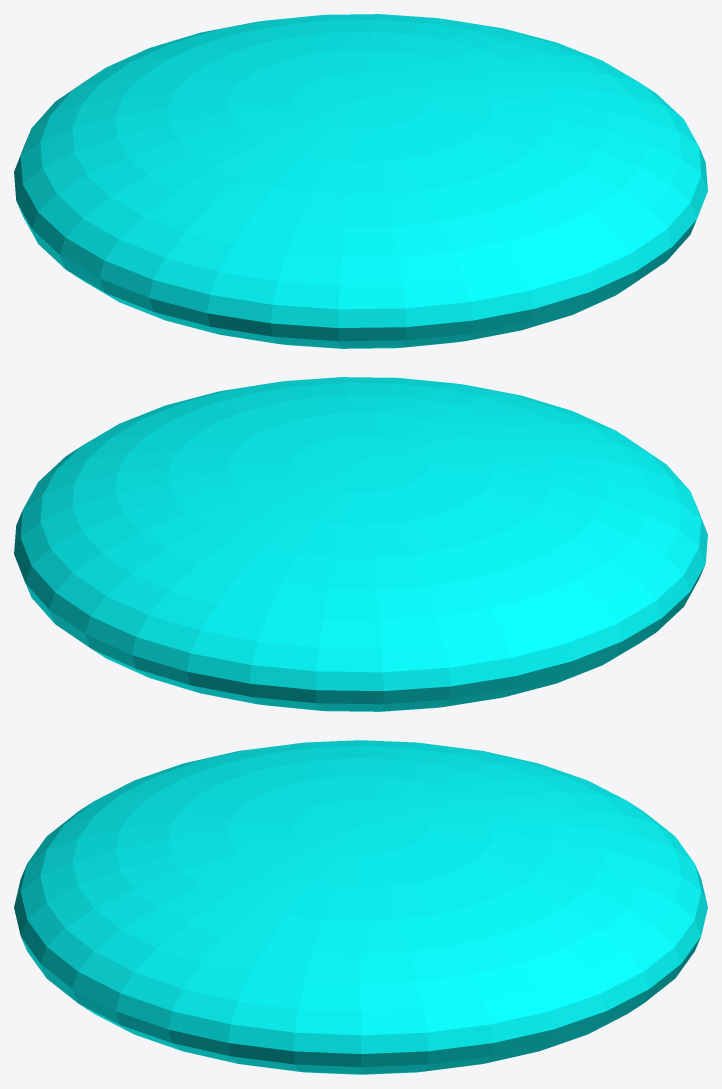
File: warpPoint.obj
3 renders of one model, top to bottom at view 1: azimuth 30°, elevation 25°; view 2: azimuth 150°, elevation 25°; view 3: azimuth 270°, elevation 25°, orthographic.
Parts seen in each view (by area): view 1: 球; view 2: 球; view 3: 球.
Boxes of the visible parts, bbox=[...] form: 球: bbox=[14, 14, 707, 348]; 球: bbox=[14, 377, 707, 711]; 球: bbox=[14, 740, 707, 1074].
Size of the model in its own units: 2 by 0.5195 by 2.
1 material, 1 textured.
